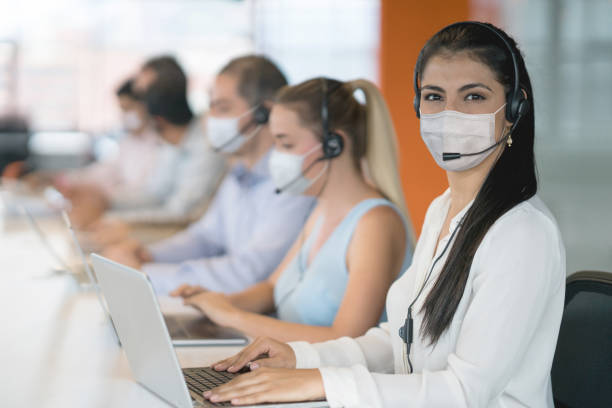with mask: (414, 40, 517, 180), (264, 88, 347, 200), (204, 52, 275, 160), (113, 71, 153, 140)
